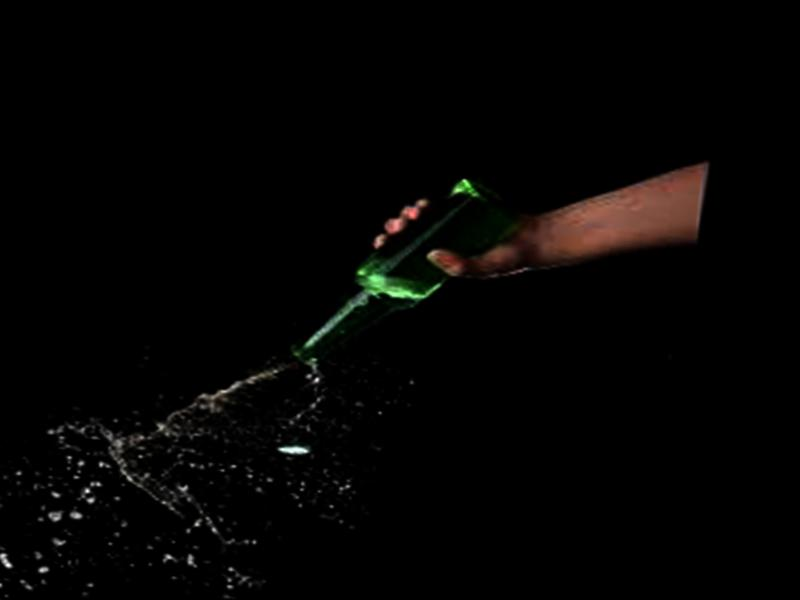Beer: (292, 157, 529, 385)
